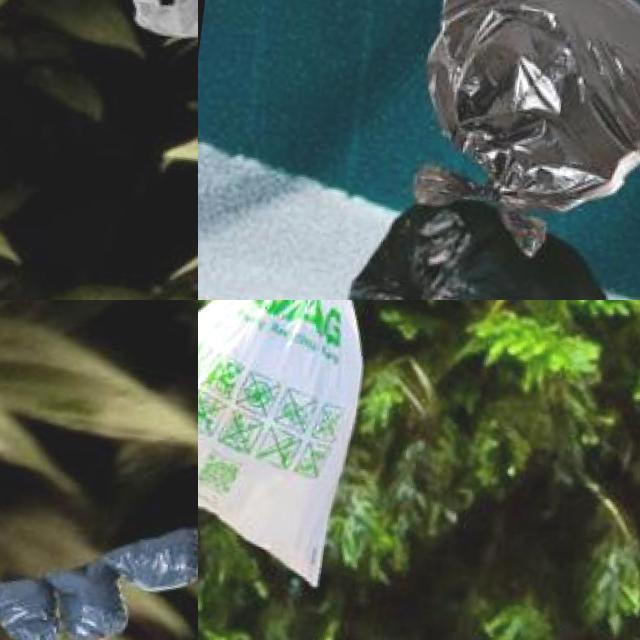waste: (405, 0, 640, 258), (198, 300, 403, 593), (341, 197, 610, 300), (42, 560, 131, 640), (92, 525, 198, 592), (0, 572, 66, 640)
